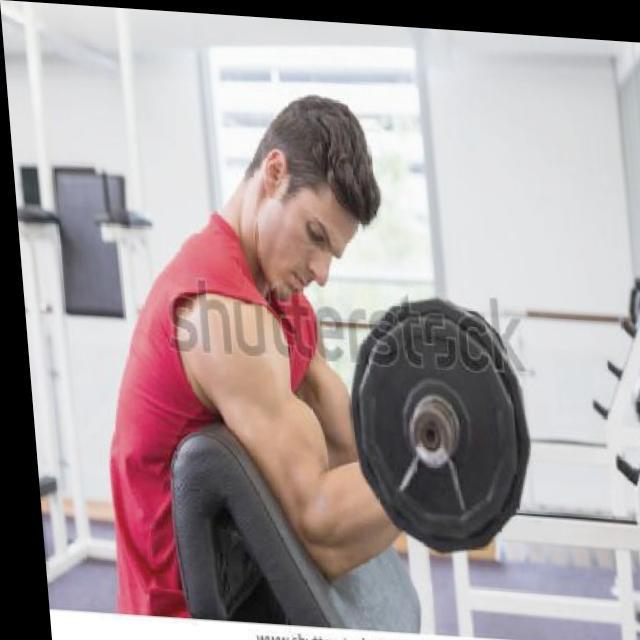barbell: (335, 285, 539, 556)
